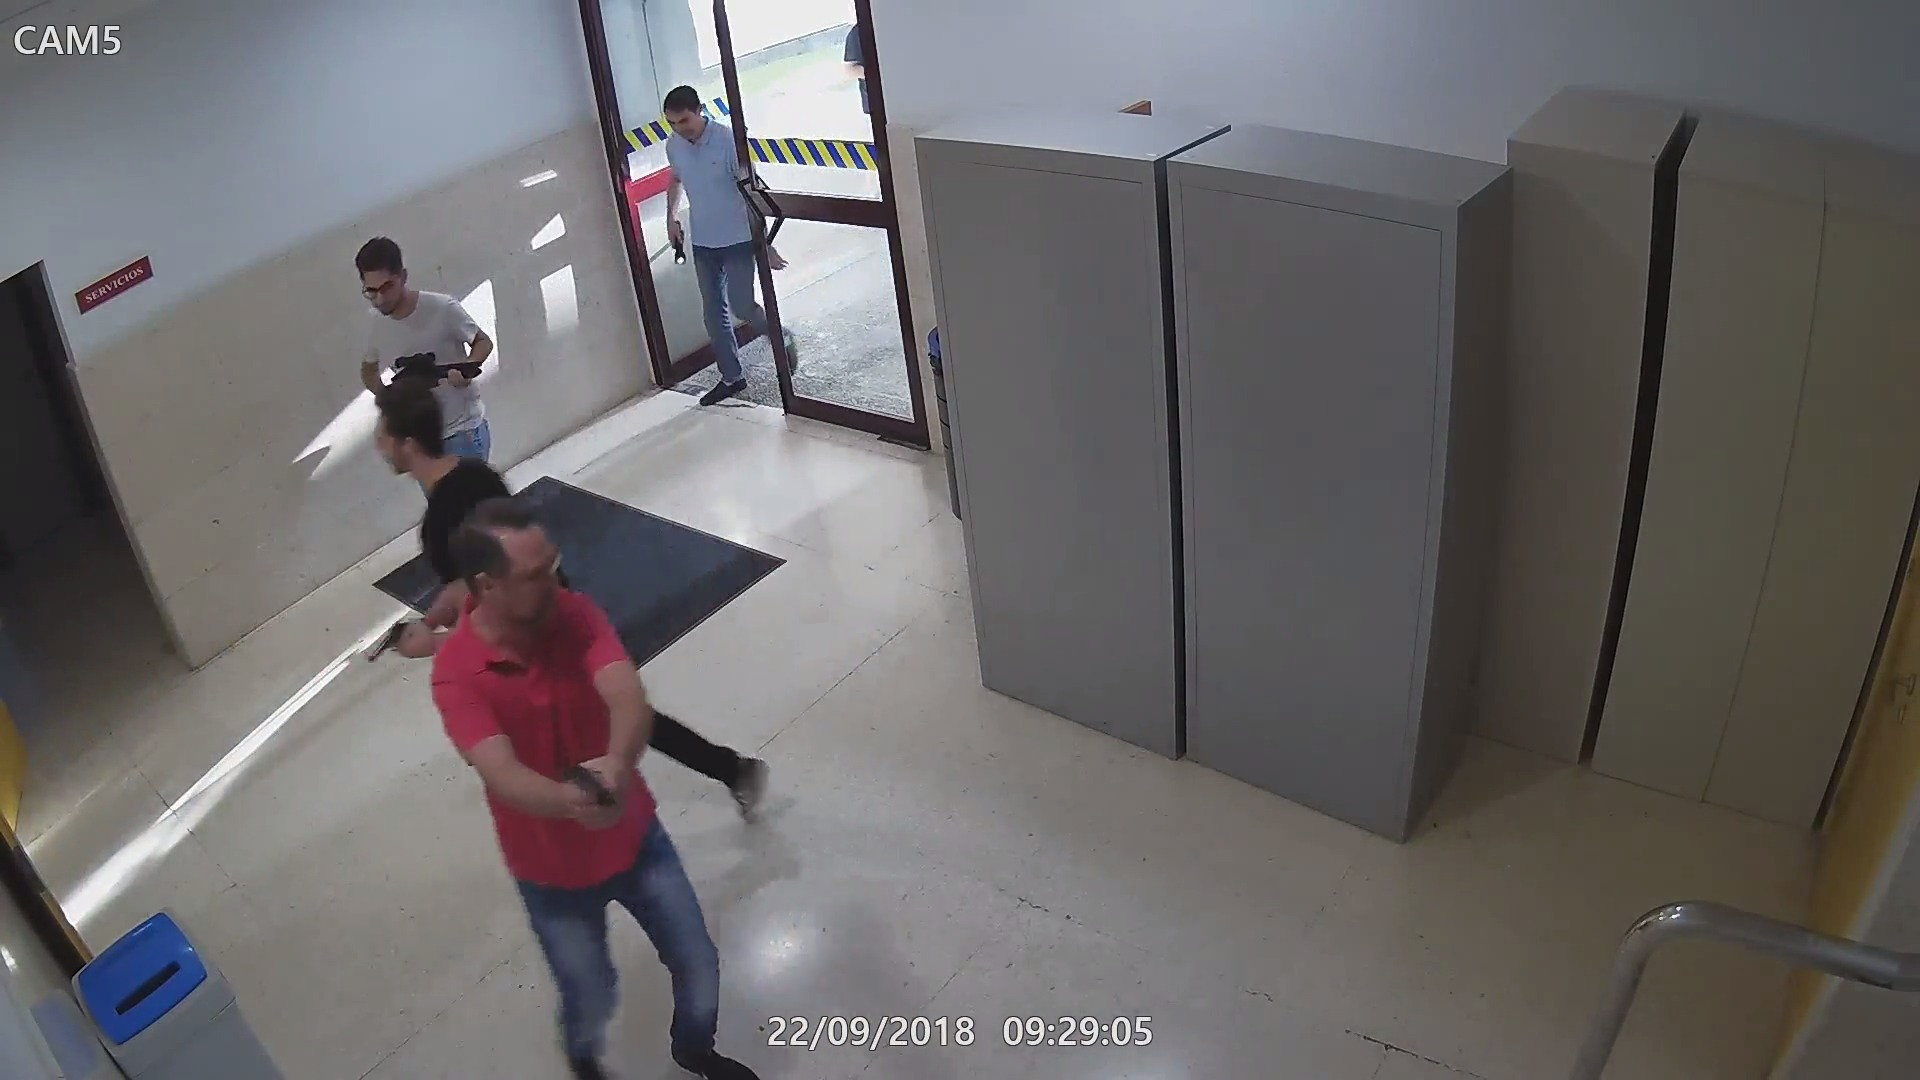Handgun: (355, 607, 435, 670), (559, 765, 624, 831)
Short_rifle: (380, 349, 485, 404)
